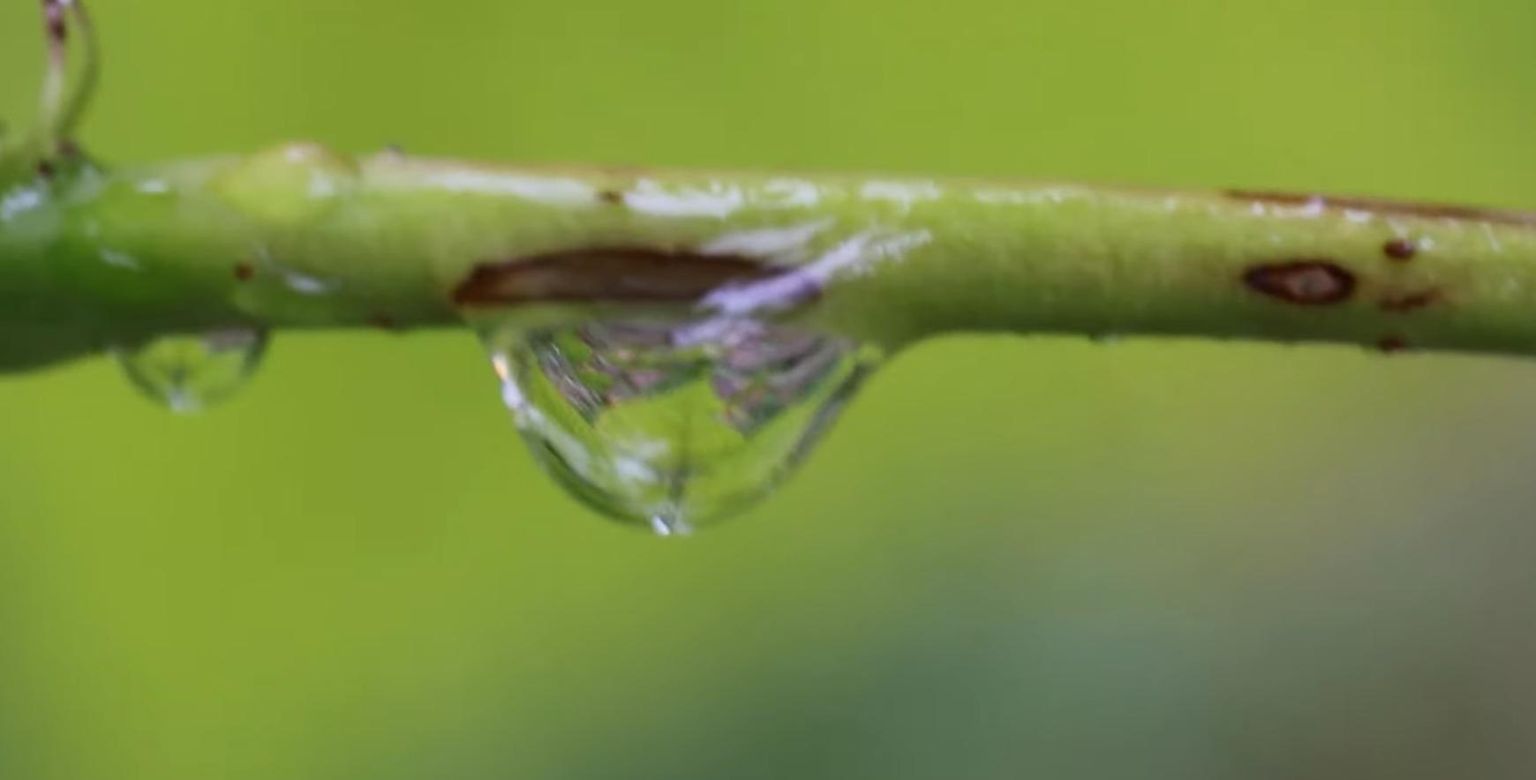water drop: (458, 236, 882, 542), (109, 294, 267, 417)
